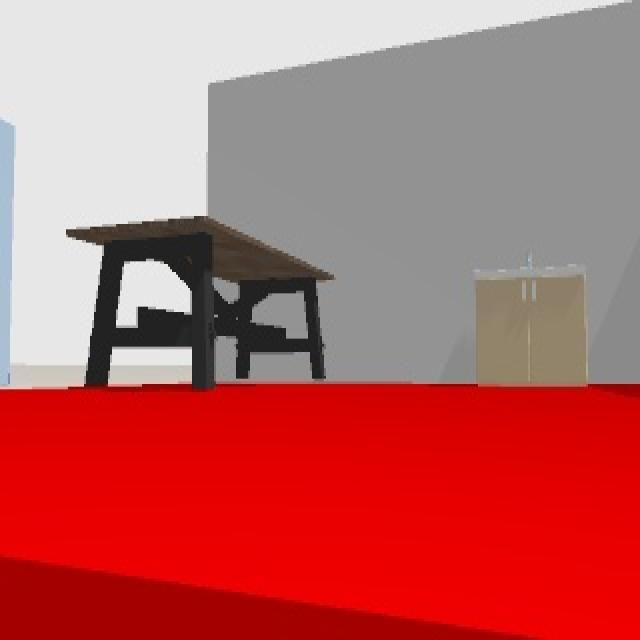dining: (69, 212, 334, 386)
